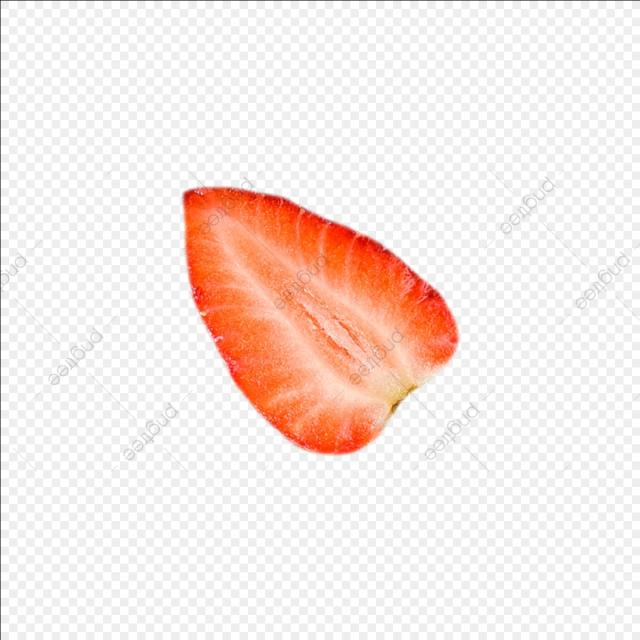strawberry: (157, 150, 466, 472)
